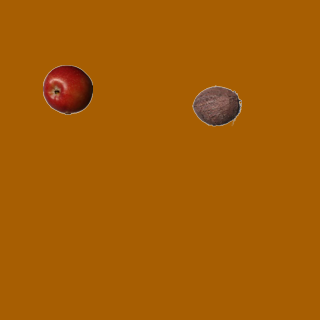Apple Braeburn: (42, 64, 92, 114)
Cocos: (191, 80, 241, 130)
